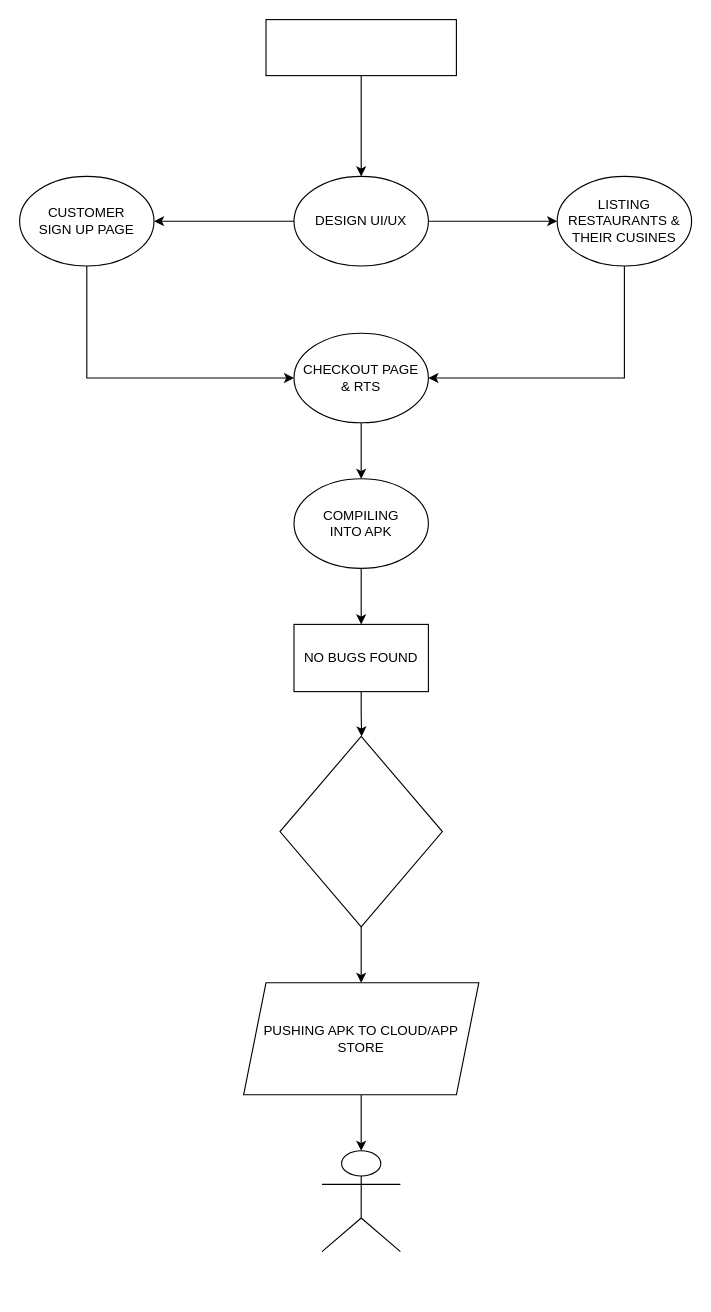
The diagram is 711 pixels wide and 1312 high, and some of its shapes have lost their labels. Each missing label, with the centre of its shape:
"CUSTOMER USING APPLICATION" goes at pixel 360 1201.
"WRITING PERMISSIONS FOR DEPLOYMENT" goes at pixel 360 831.
"ZK FOODS" goes at pixel 360 47.
